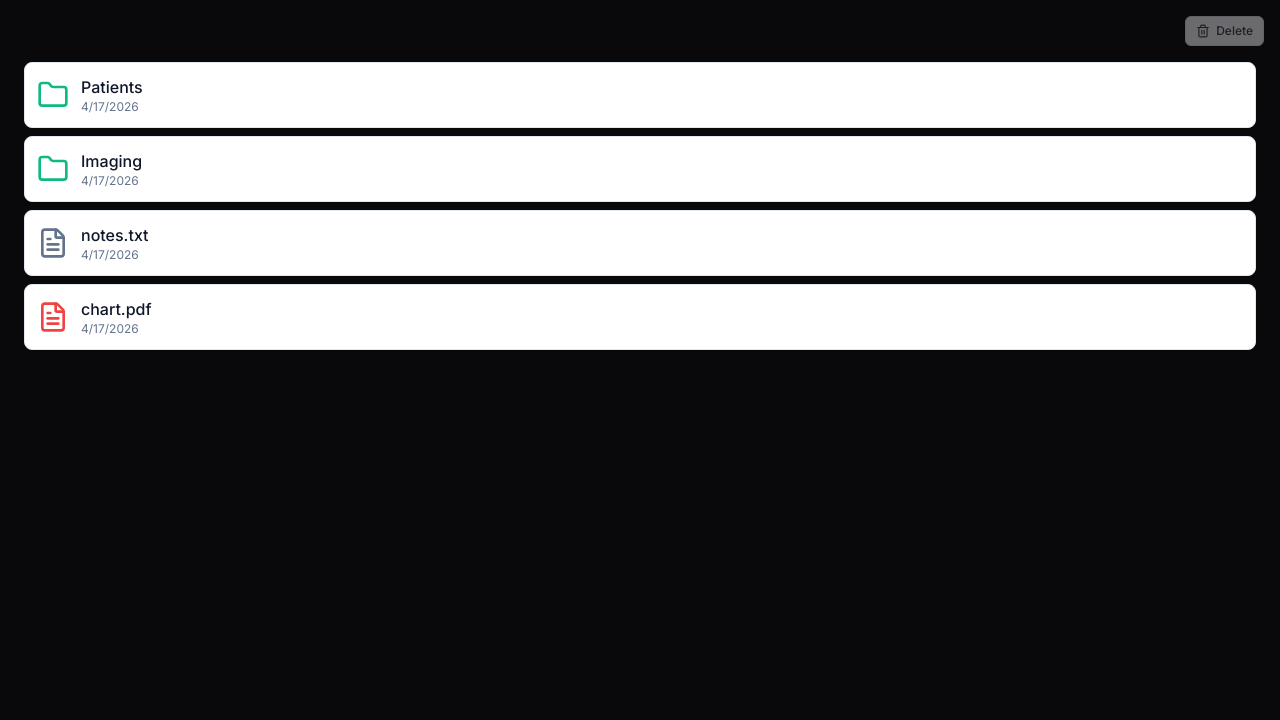
Test: ContentPanel › rapid double-click on file opens the info dialog with file metadata
The width and height of the screenshot is (1280, 720).
Click the list item "notes.txt 4/17/2026" at point(640, 243), box [24,210,1256,276]
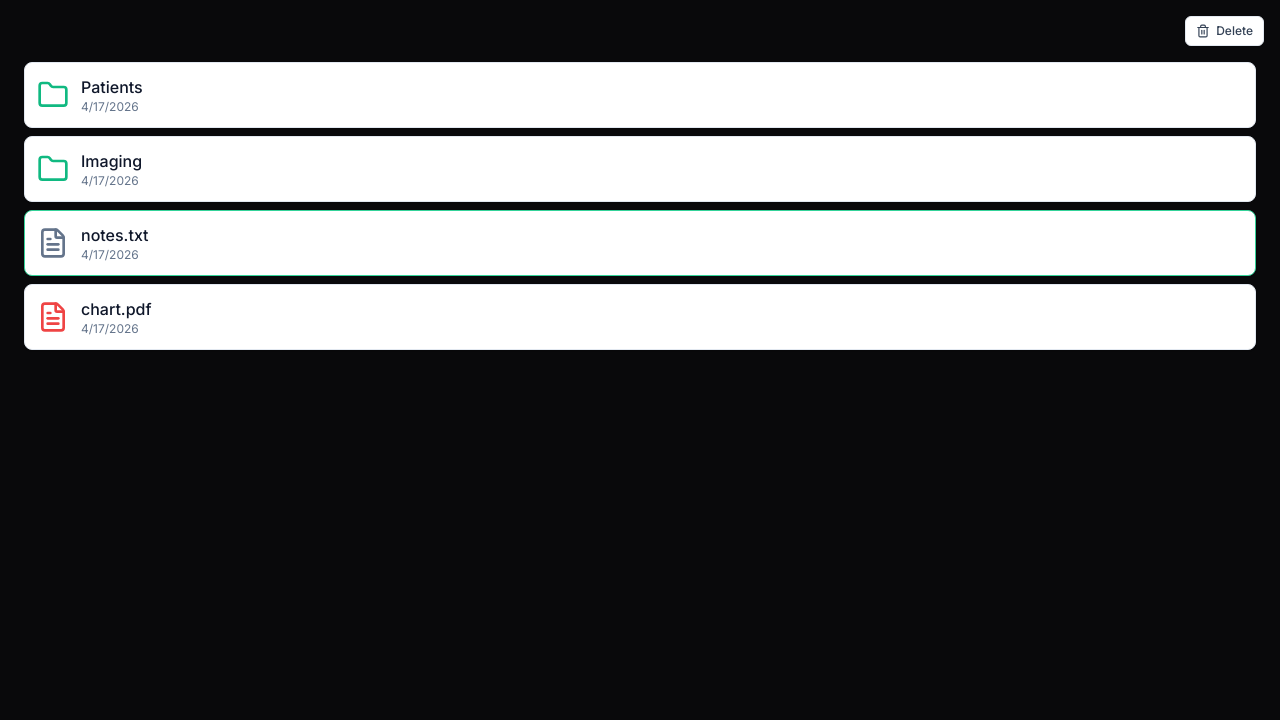
Click the list item "notes.txt 4/17/2026" at point(640, 243), box [24,210,1256,276]
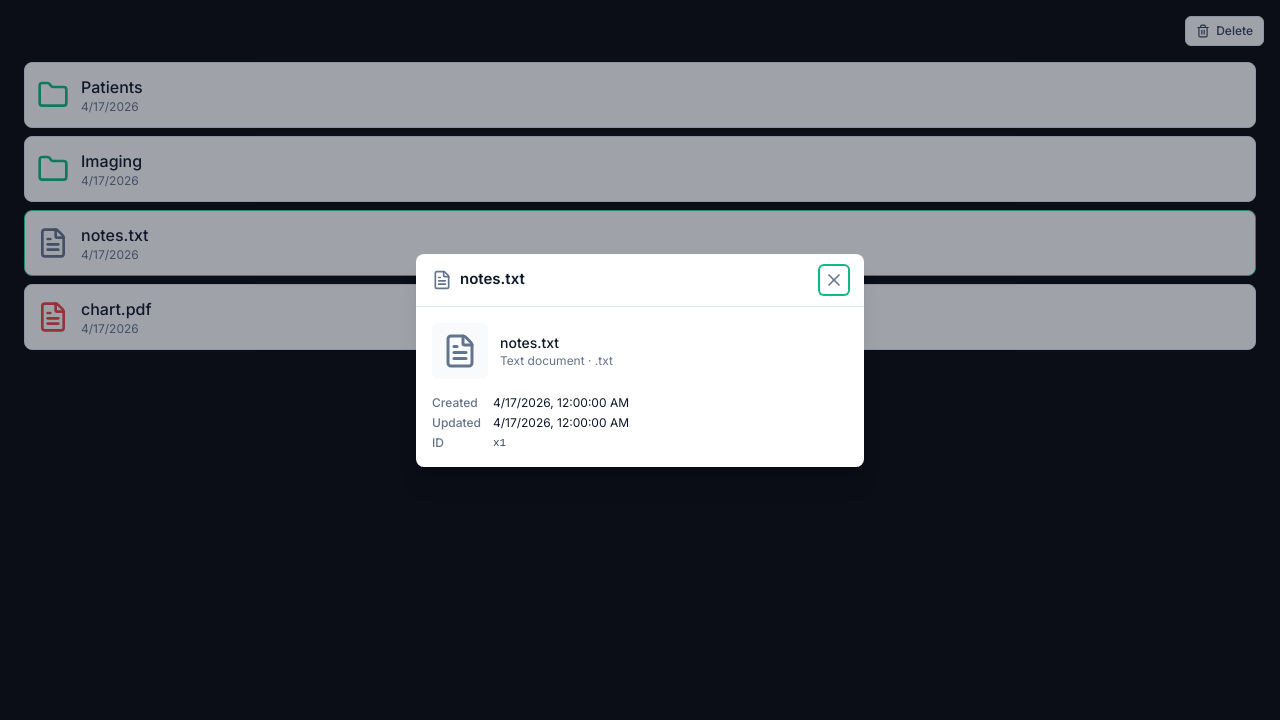
Check: the dialog is shown, box [416,254,864,466]
Check: the dialog shows "notes.txt", box [460,269,525,288]
Check: the dialog shows "Text document", box [500,352,585,368]
